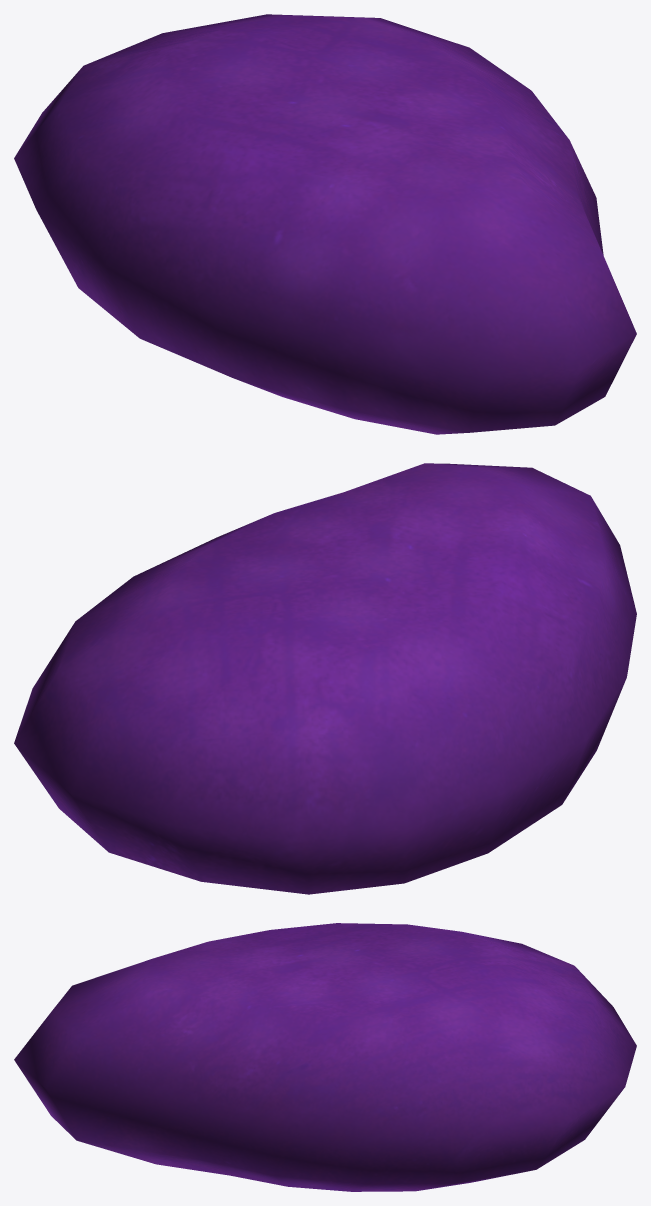
Rendered from CHP_MOD_Chewie_purple.fbx.
3 views of the same model, one above another, from view 1: azimuth 30°, elevation 25°; view 2: azimuth 150°, elevation 25°; view 3: azimuth 270°, elevation 25° (orthographic). The views are drawn at different scales.
Parts seen in each view (by area): view 1: CHP_MOD_Chewie_purple; view 2: CHP_MOD_Chewie_purple; view 3: CHP_MOD_Chewie_purple.
Boxes of the visible parts, x1,y1,x2,y2 form: CHP_MOD_Chewie_purple: (14,14,636,434); CHP_MOD_Chewie_purple: (14,463,636,894); CHP_MOD_Chewie_purple: (14,923,636,1191).
Size of the model in its own units: 0.4589 by 0.2338 by 0.7046.
